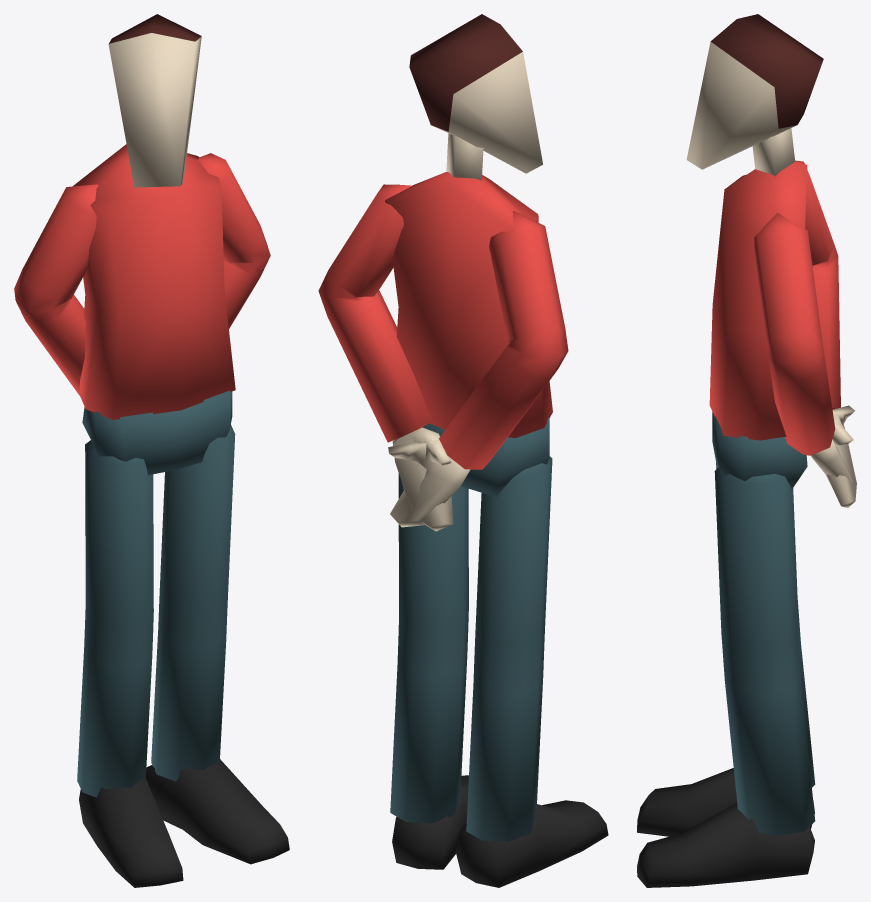
File: mesh_VisitorB.fbx
The picture shows the model from 3 angles, left to right: view 1: azimuth 30°, elevation 25°; view 2: azimuth 150°, elevation 25°; view 3: azimuth 270°, elevation 25°; orthographic projection. The views are drawn at different scales.
Parts seen in each view (by area): view 1: VisitorB; view 2: VisitorB; view 3: VisitorB.
Boxes of the visible parts, x1,y1,x2,y2 form: VisitorB: (14,14,289,887); VisitorB: (318,14,608,887); VisitorB: (637,14,856,887).
Bounding box in the file's own units: 30.82 × 98.38 × 23.85.
